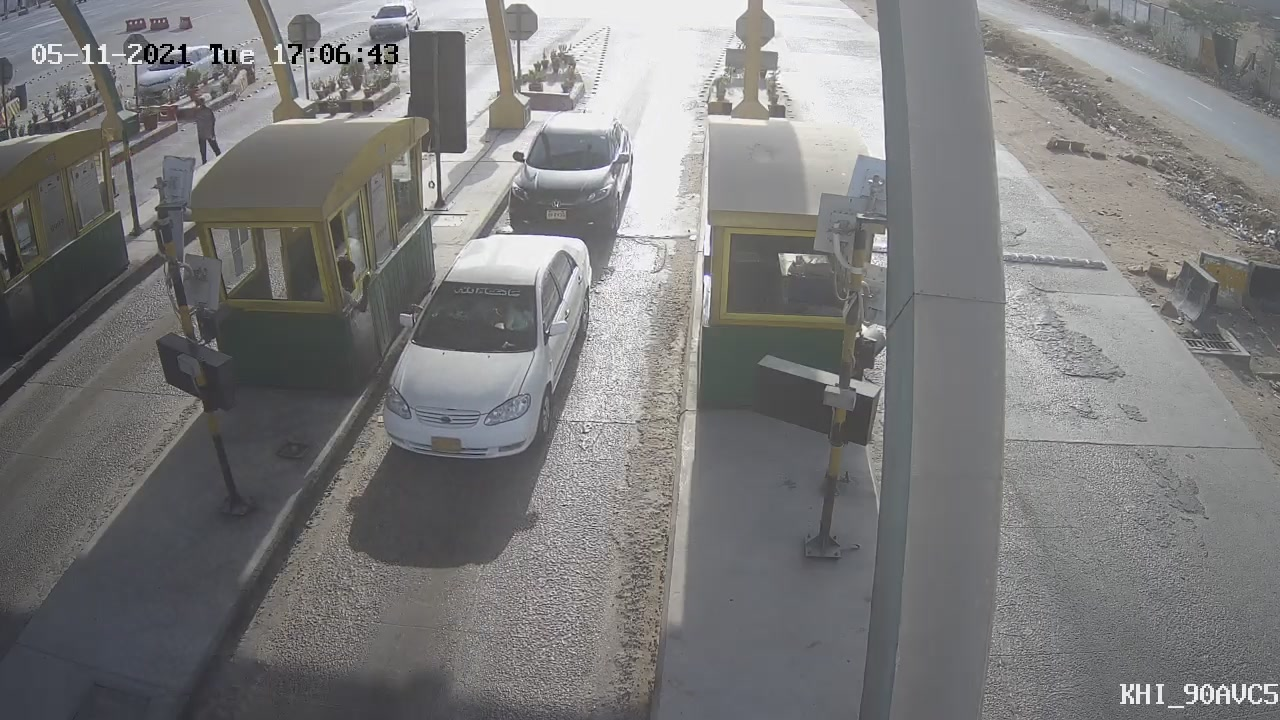F1: (353, 213, 613, 490), (490, 95, 656, 252)
